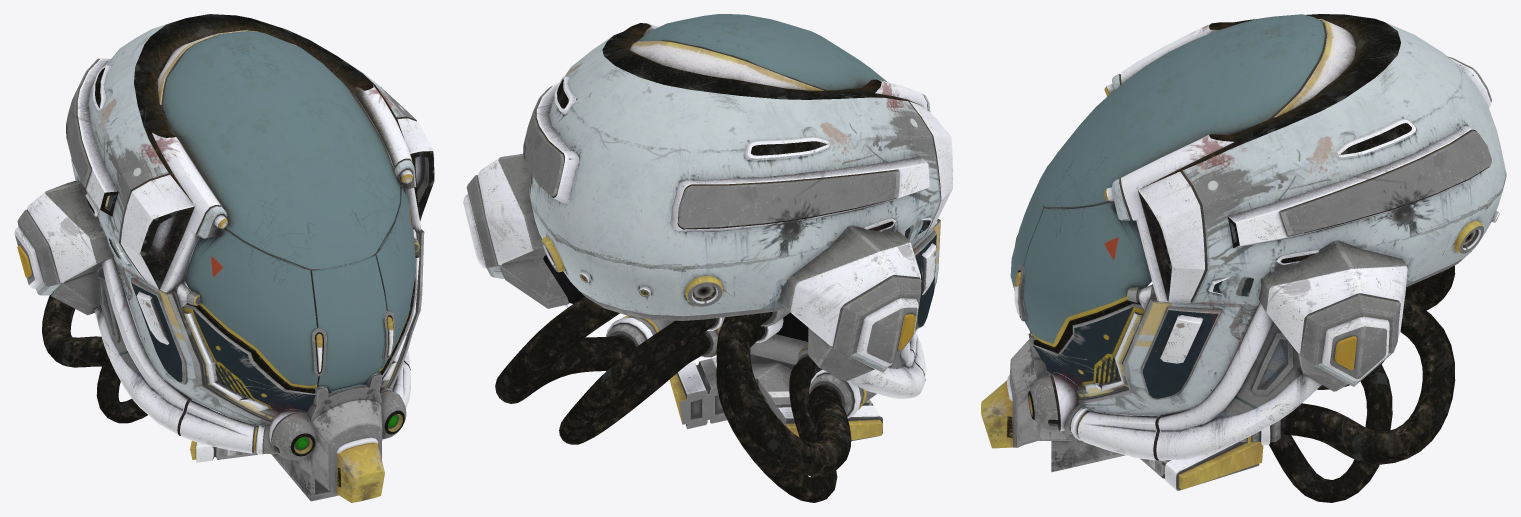
The model's file is DamagedHelmet.glb.
The picture shows the model from 3 angles, left to right: view 1: azimuth 30°, elevation 25°; view 2: azimuth 150°, elevation 25°; view 3: azimuth 270°, elevation 25°; orthographic projection. The views are drawn at different scales.
Visible parts, largest first — view 1: node_damagedHelmet_-6514; view 2: node_damagedHelmet_-6514; view 3: node_damagedHelmet_-6514.
Part boxes in pixels (<box>): node_damagedHelmet_-6514: <box>14,14,434,502</box>; node_damagedHelmet_-6514: <box>463,14,952,502</box>; node_damagedHelmet_-6514: <box>981,14,1506,502</box>.
Size of the model in its own units: 1.89 by 1.8 by 2.
Materials: 1 (1 with a texture image).
